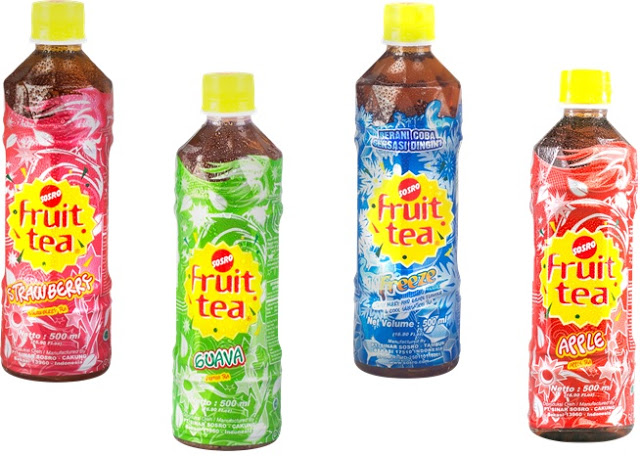botol: (0, 3, 116, 379), (0, 3, 112, 379), (349, 1, 461, 371), (174, 69, 281, 448), (353, 1, 461, 371), (533, 65, 633, 441), (533, 67, 633, 441)
